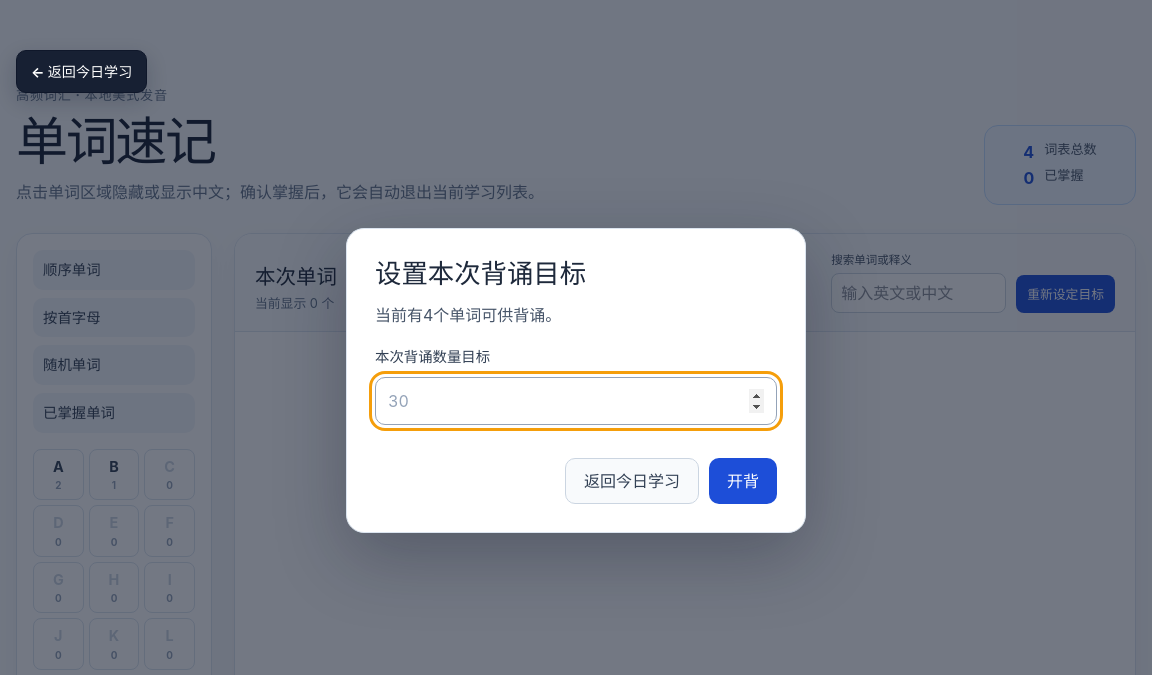
WordQuickStudy › disables undo while the immediate-parent mastery burst is active
The width and height of the screenshot is (1152, 675).
Step 1. Replace the text in the number field labelled "本次背诵数量目标" with "2" → [576, 400], box [375,376,777,424]
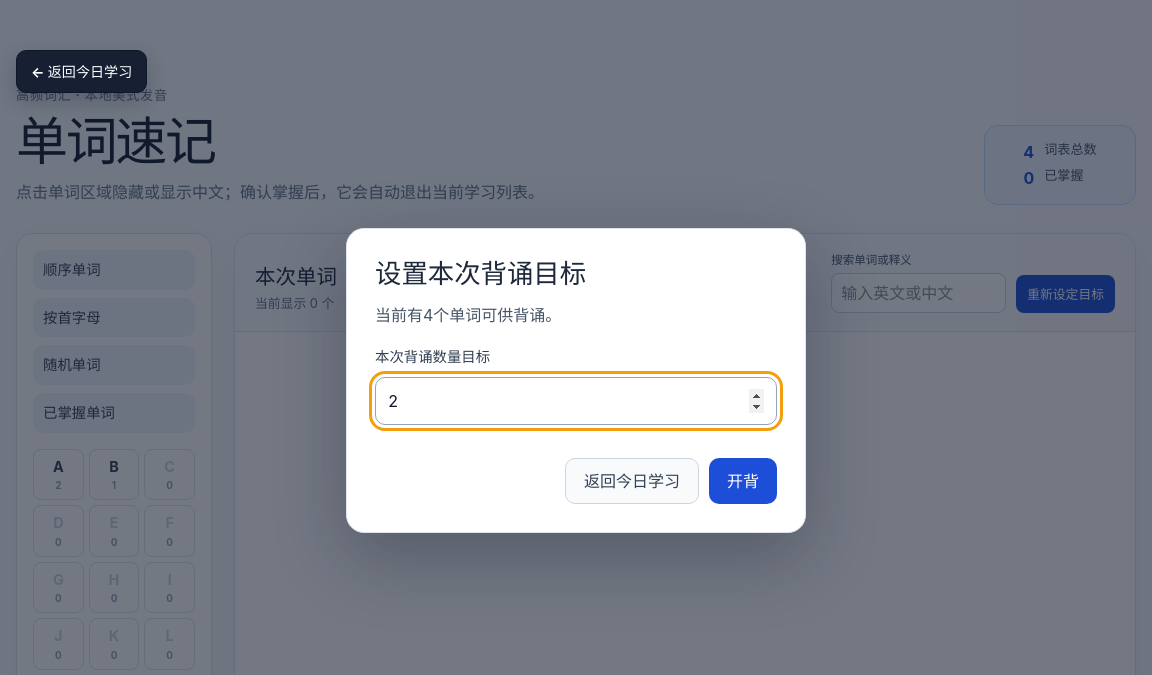
Step 2. Click the button "开背" → [743, 480], box [709,458,777,504]
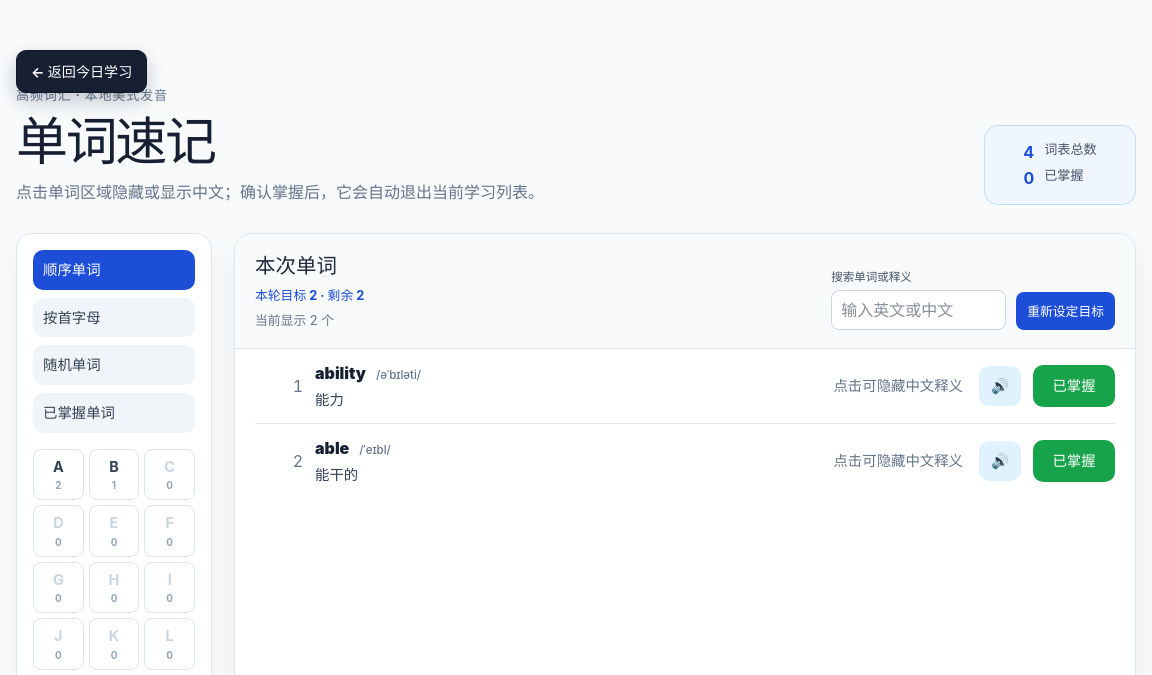
Step 3. Click the button with aria-label "已掌握 ability" → [1074, 386], box [1033,365,1115,407]
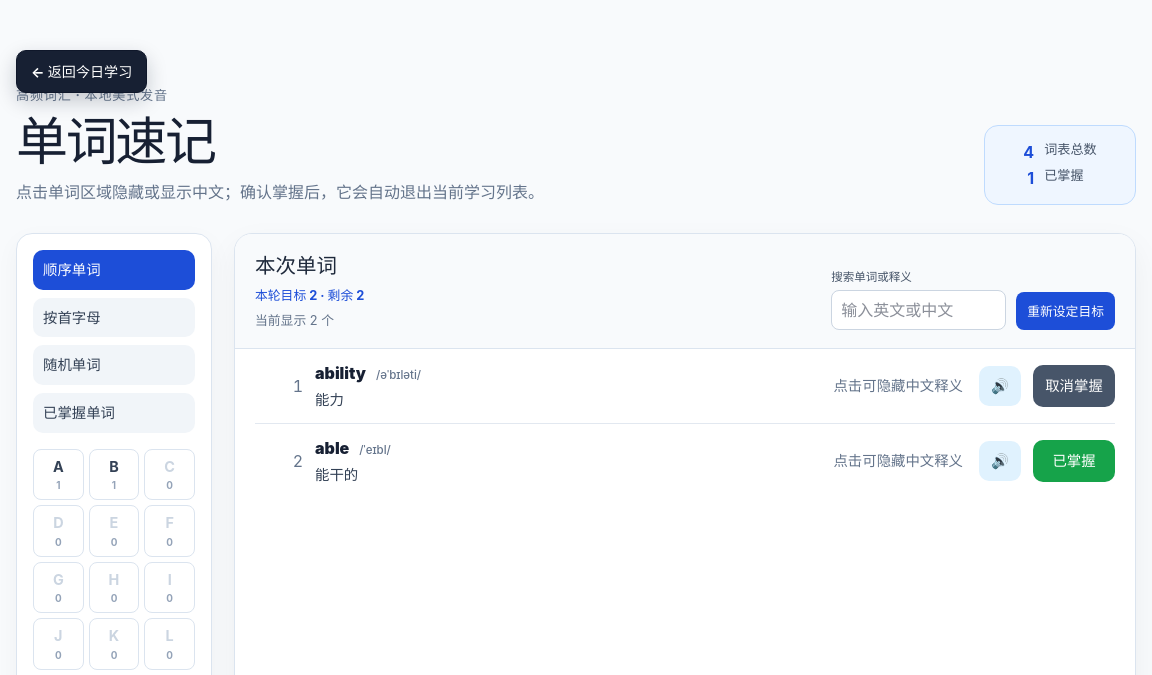
Check: the button with aria-label "取消掌握 ability" is disabled
Step 4. Click the button with aria-label "取消掌握 ability" → [1074, 386], box [1033,365,1115,407]
Wait 800 ms
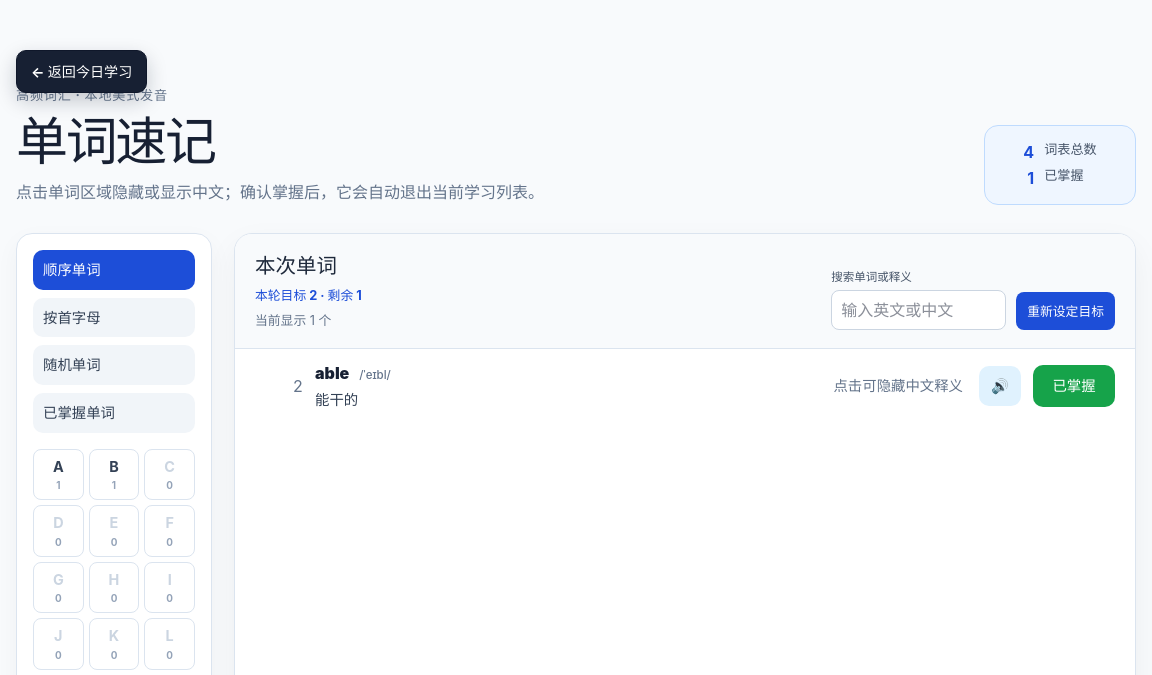
Check: the button "ability" is gone
Check: the text "本轮目标 2 · 剩余 1" is shown, box [255,286,362,305]
